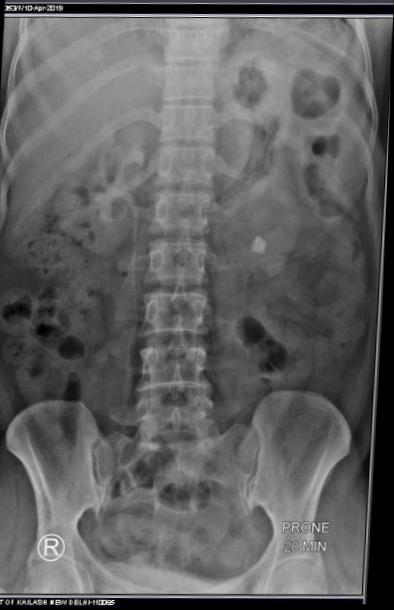left kidney: (227, 123, 340, 282)
right kidney: (52, 121, 159, 273)
vertebrae: (160, 178, 227, 232)
